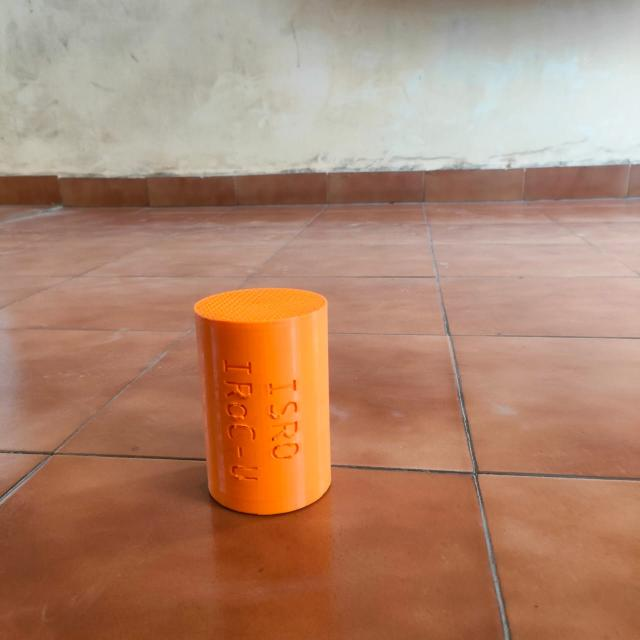Cylinder: (192, 286, 332, 516)
